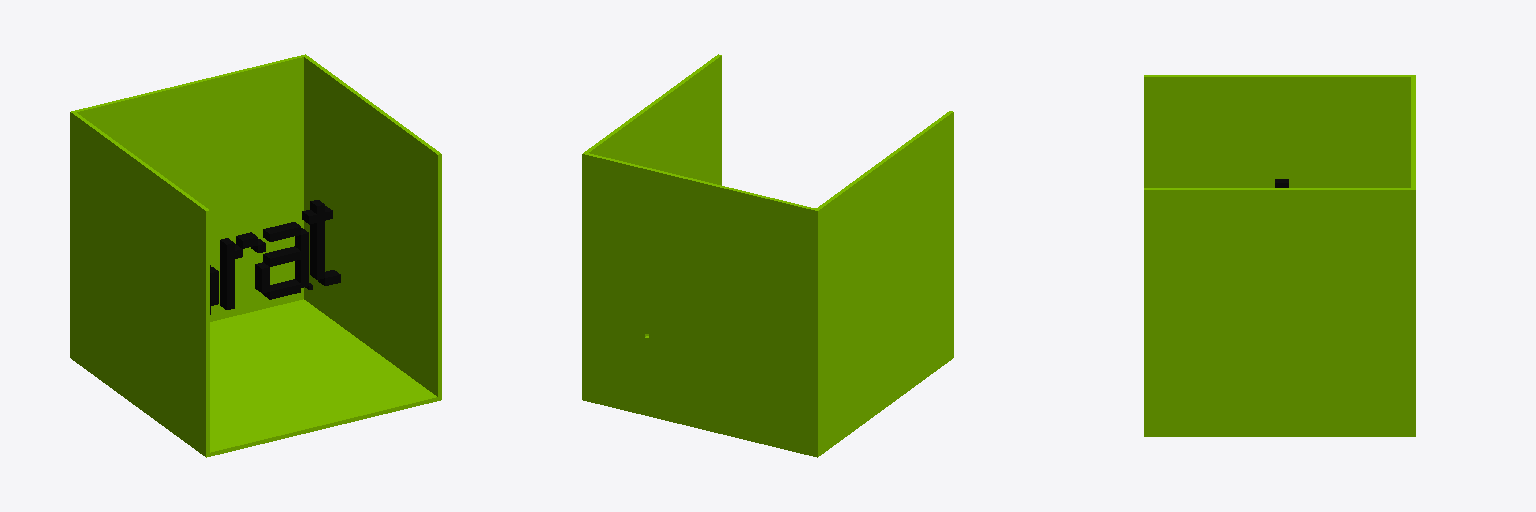
3 renders of one model, left to right at view 1: azimuth 30°, elevation 25°; view 2: azimuth 150°, elevation 25°; view 3: azimuth 270°, elevation 25°, orthographic.
Parts seen in each view (by area): view 1: object 1; view 2: object 1; view 3: object 1.
Boxes of the visible parts, <box> form: object 1: <box>70,54,441,457</box>; object 1: <box>582,54,953,457</box>; object 1: <box>1144,75,1415,436</box>.
Size of the model in its own units: 6 by 6 by 6.
Materials: 1 (1 with a texture image).